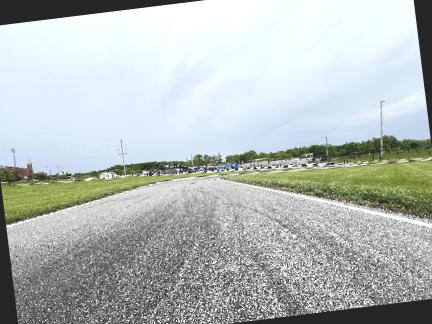Grass: (1, 171, 243, 224), (223, 161, 431, 215)
Lane: (7, 177, 431, 323)
